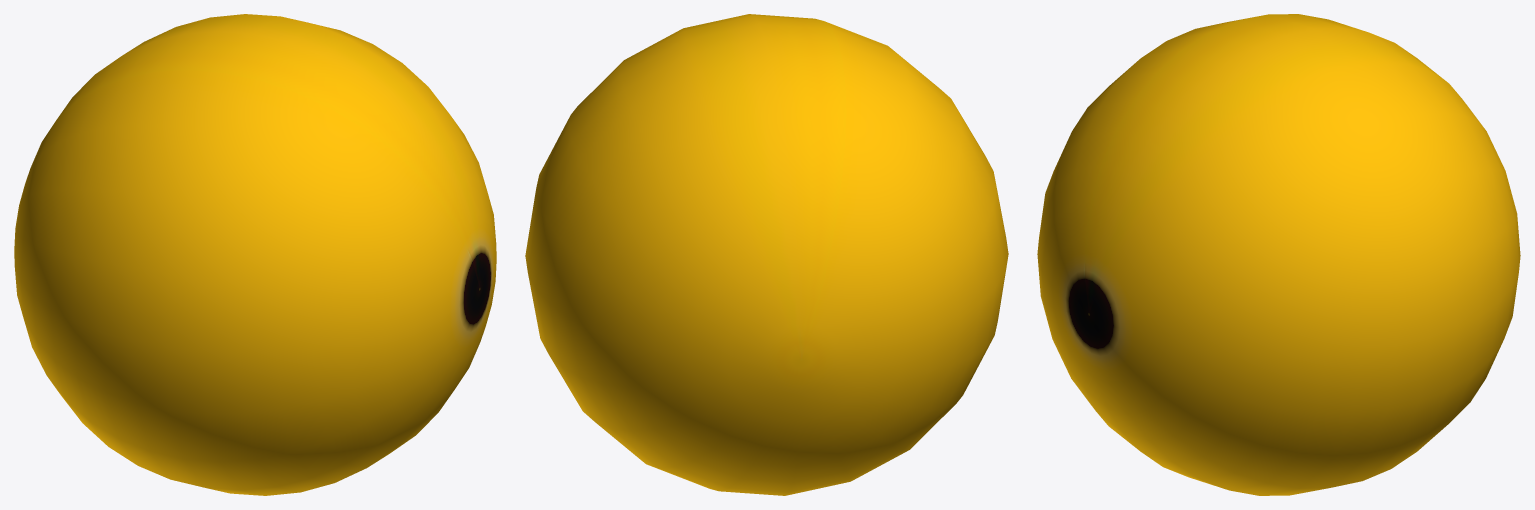
Rendered from eye.obj.
The picture shows the model from 3 angles, left to right: view 1: azimuth 30°, elevation 25°; view 2: azimuth 150°, elevation 25°; view 3: azimuth 270°, elevation 25°; orthographic projection.
Parts seen in each view (by area): view 1: polySurface770; view 2: polySurface770; view 3: polySurface770.
Boxes of the visible parts, bbox=[...] form: polySurface770: bbox=[14, 14, 496, 495]; polySurface770: bbox=[525, 14, 1008, 495]; polySurface770: bbox=[1037, 14, 1520, 495].
Bounding box in the file's own units: 2 × 2 × 2.
1 material, 1 textured.
